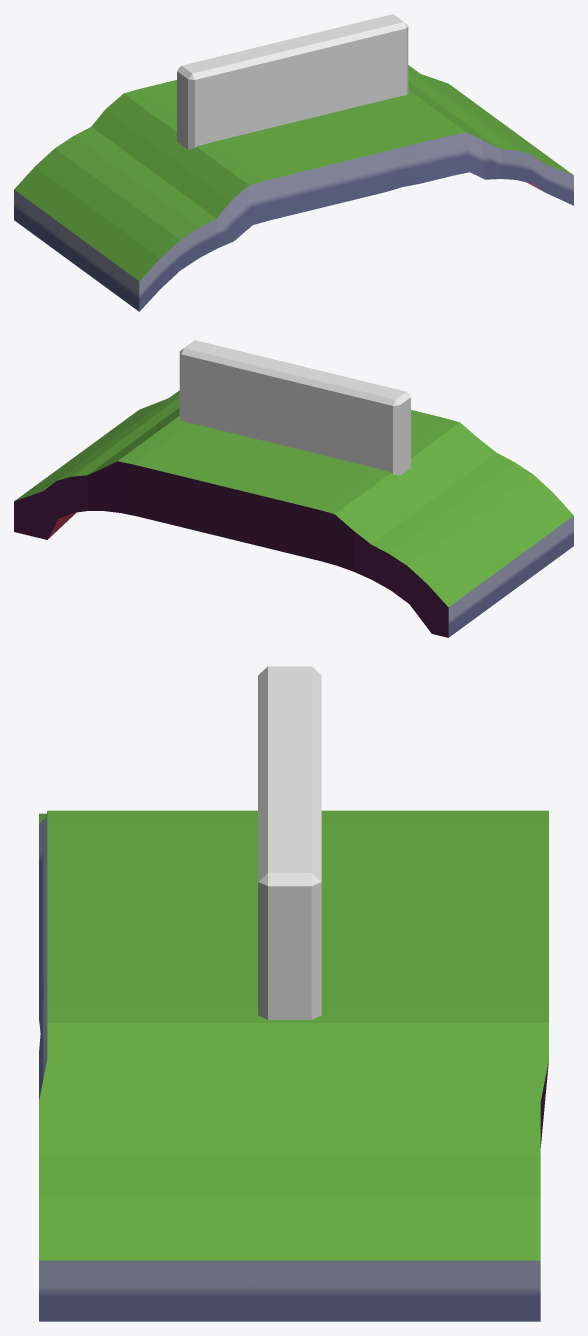
3 views of the same model, one above another, from view 1: azimuth 30°, elevation 25°; view 2: azimuth 150°, elevation 25°; view 3: azimuth 270°, elevation 25° (orthographic). The views are drawn at different scales.
Parts seen in each view (by area): view 1: Paddle, Brick; view 2: Paddle, Brick; view 3: Paddle, Brick.
Part boxes in pixels (x1,y1,x2,y2): Paddle: (14, 65, 573, 311); Brick: (177, 14, 408, 149); Paddle: (14, 390, 573, 637); Brick: (179, 340, 410, 475); Paddle: (39, 810, 548, 1321); Brick: (258, 666, 321, 1019).
Bounding box in the file's own units: 4 × 1.49 × 2.03.
